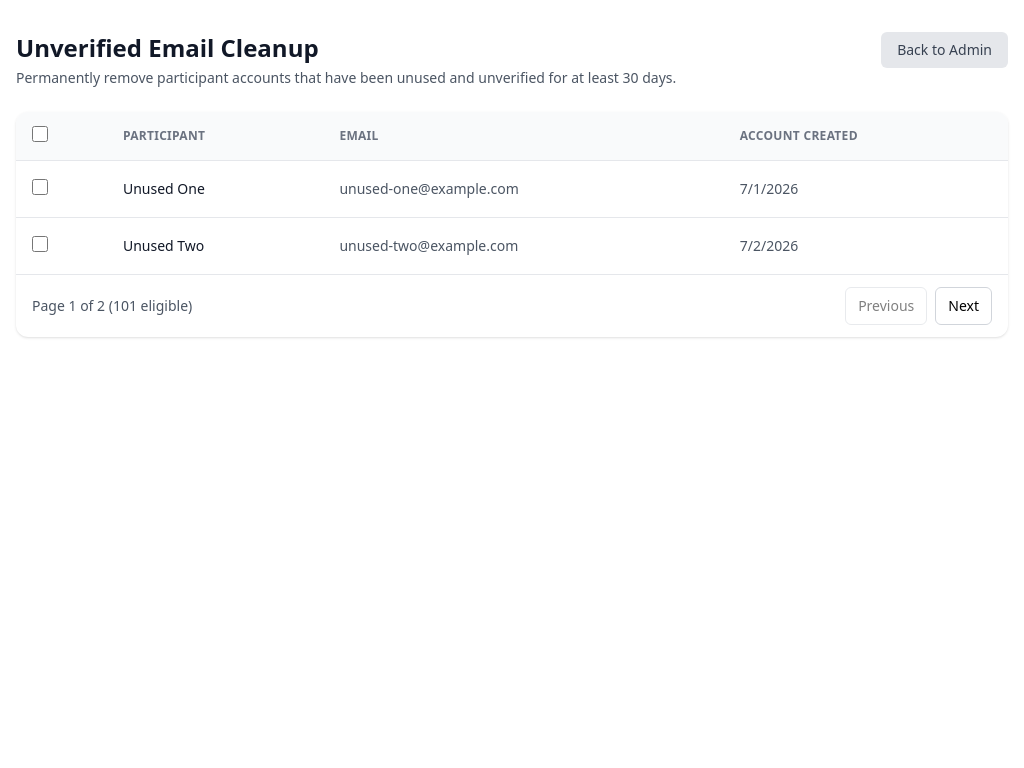
Test case: AdminUnverifiedUserCleanupPage › should return to the final valid page when deletion shrinks pagination
The width and height of the screenshot is (1024, 768).
Expected: the text "Page 1 of 2 (101 eligible)" is shown, [32, 296, 192, 316]
Click the button "Next" at (964, 306), box [935, 287, 992, 325]
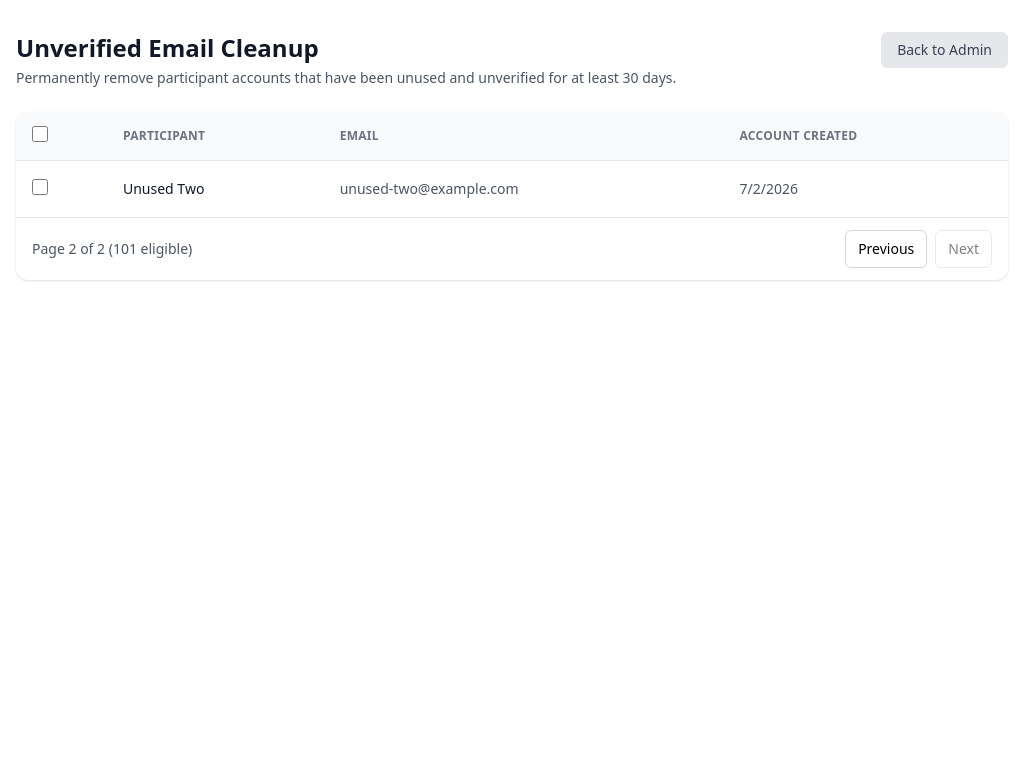
Expected: the text "Page 2 of 2 (101 eligible)" is shown, [32, 239, 192, 259]
Click the checkbox named "Select Unused Two" at (40, 187), box [32, 179, 48, 195]
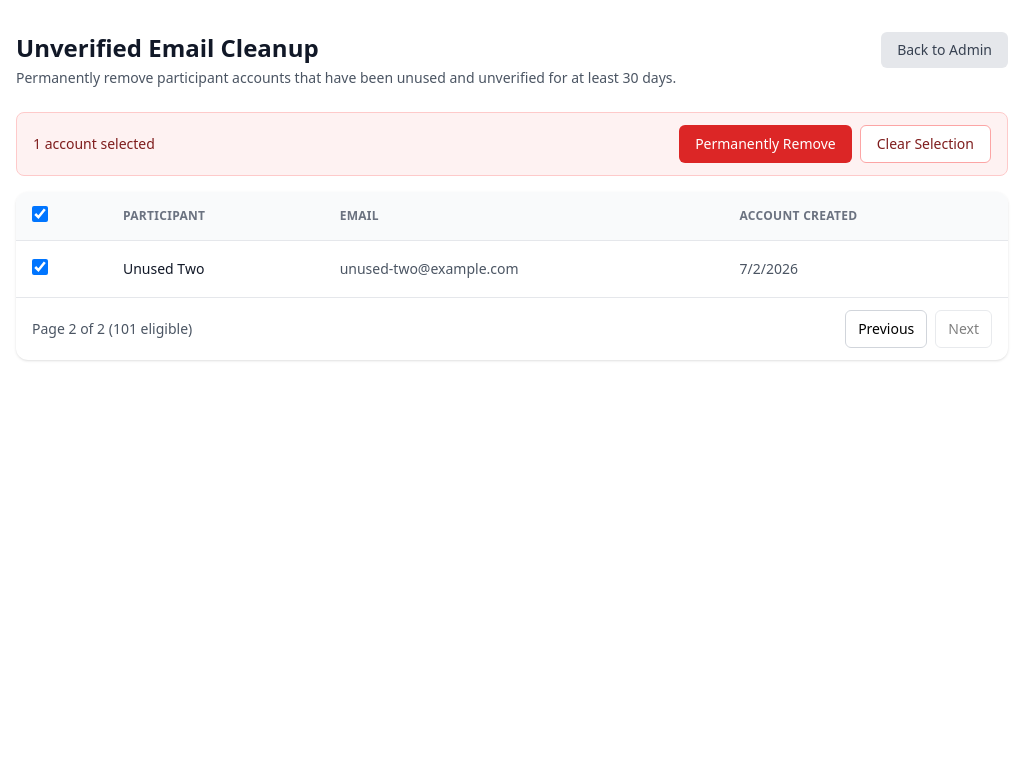
Click the button "Permanently Remove" at (765, 144), box [679, 125, 852, 163]
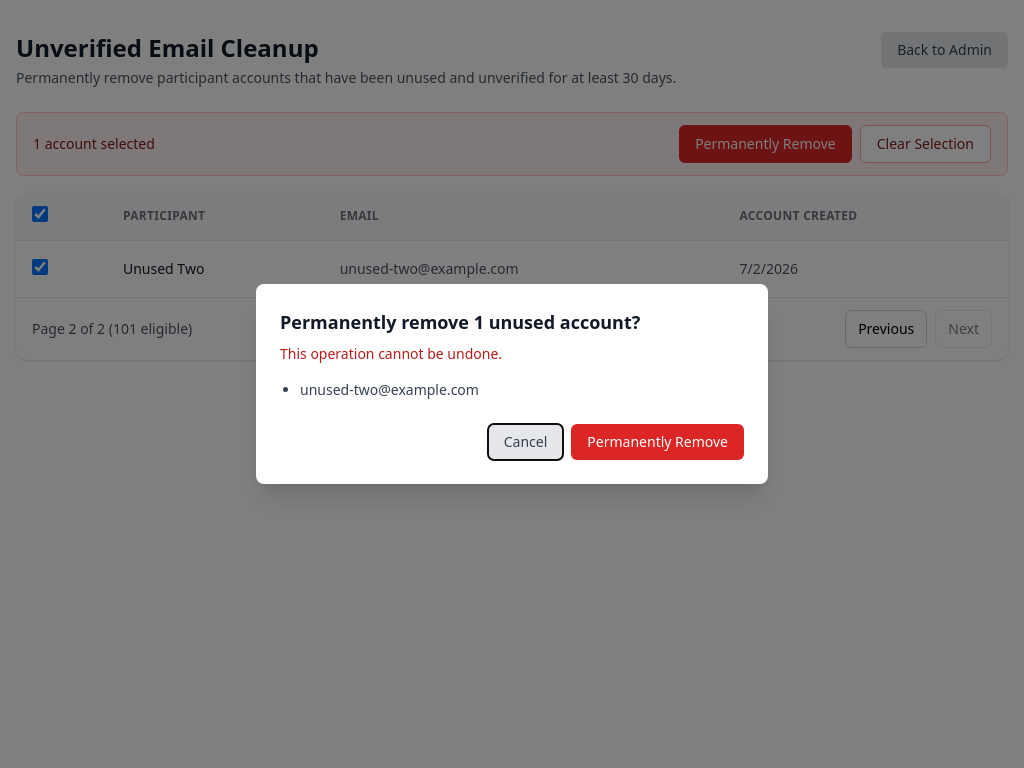
Click the button "Permanently Remove" at (658, 442), box [571, 424, 744, 460]
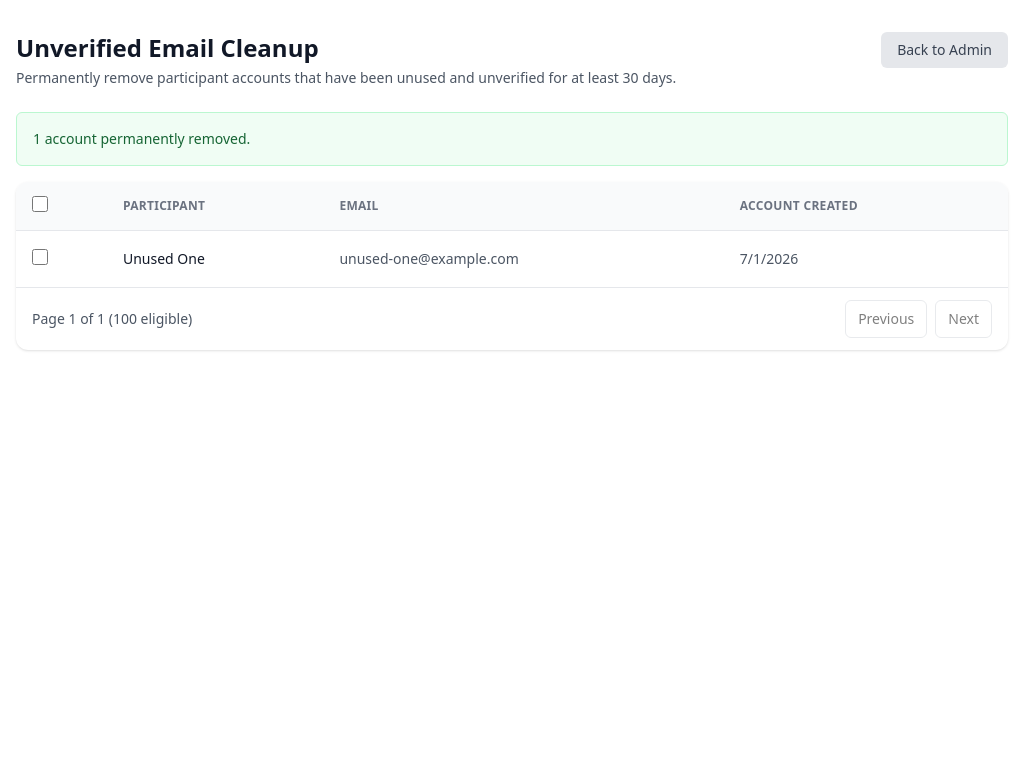
Expected: the text "Page 1 of 1 (100 eligible)" is shown, [32, 309, 192, 329]
